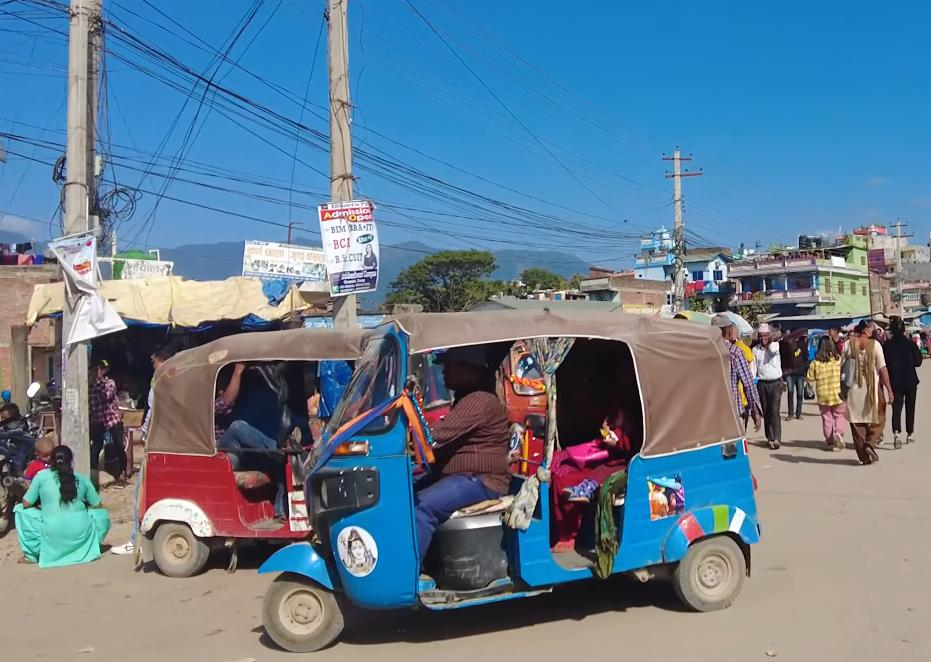auto_rickshaw: (252, 299, 765, 662), (129, 321, 402, 583)
